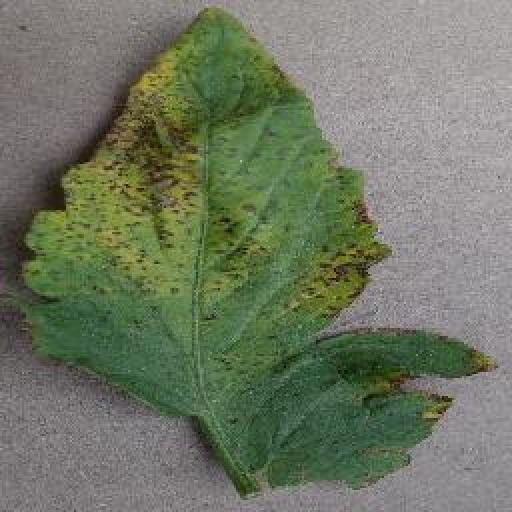Bacterial Spot: (10, 4, 509, 502)
